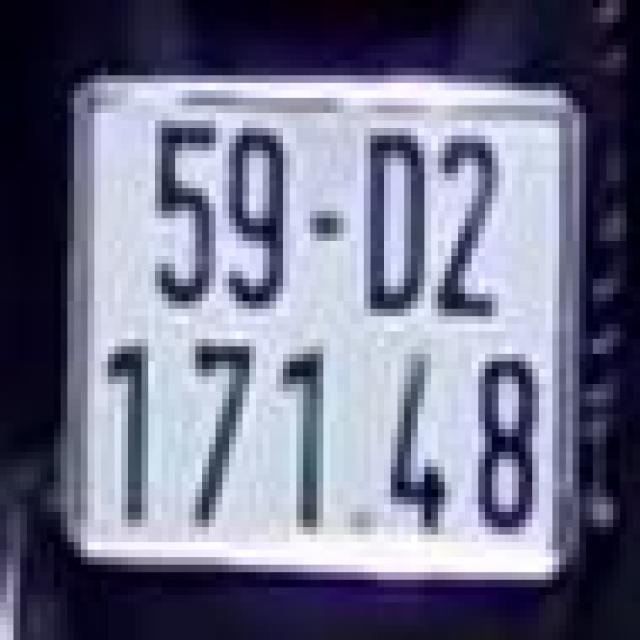1: (101, 335, 175, 538), (266, 335, 340, 538)
2: (434, 128, 508, 316)
4: (381, 339, 462, 519)
5: (138, 106, 233, 316)
7: (182, 327, 256, 531)
8: (475, 342, 549, 538)
9: (226, 116, 286, 312)
D: (347, 124, 434, 328), (350, 113, 431, 331)
